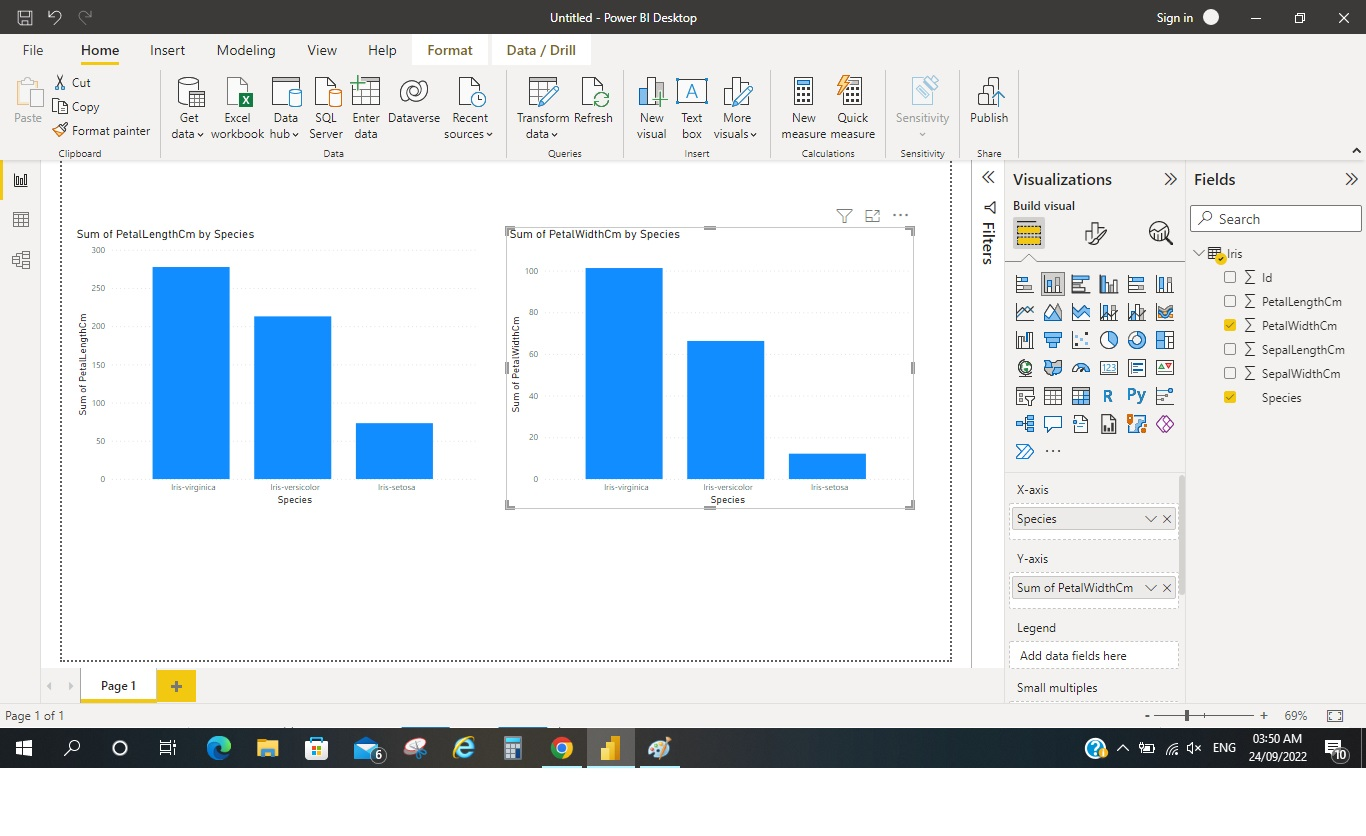

The page's visual inventory and layout, read from the dashboard file:
{"tool":"powerbi","page":{"name":"Page 3","canvas":[1280,720],"ordinal":2},"visuals":[{"type":"columnChart","fields":{"Category":["Iris.Species"],"Y":["Sum(Iris.PetalWidthCm)"]},"box":[50.4,122.6,547.6,488.8],"z":0},{"type":"columnChart","fields":{"Category":["Iris.Species"],"Y":["Sum(Iris.PetalLengthCm)"]},"box":[698.8,122.6,514,488.8],"z":1}]}

Visuals, with their boxes on the page's 1280x720 design canvas (x1, y1, x2, y2). These are canvas units, not pixel positions in the 1366x836 screenshot, which may show the page scaled, cropped or inside an application window:
columnChart - Iris.Species x Sum(Iris.PetalWidthCm): 50/123/598/611
columnChart - Iris.Species x Sum(Iris.PetalLengthCm): 699/123/1213/611
